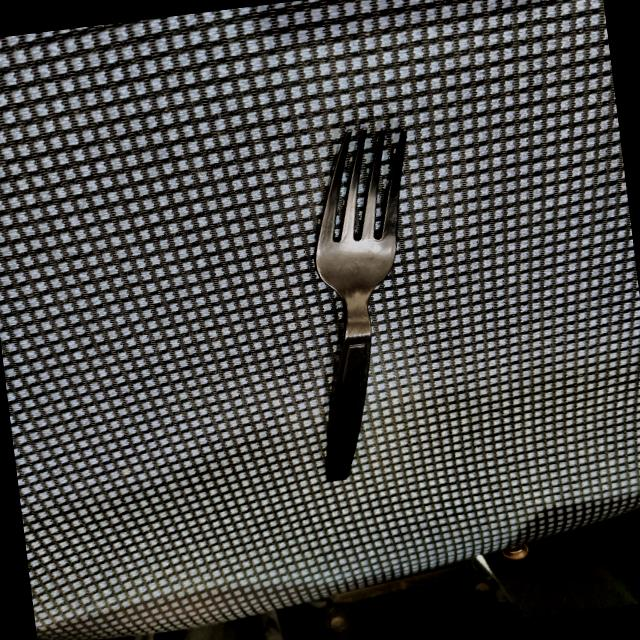plastic utensil: (273, 132, 450, 491)
